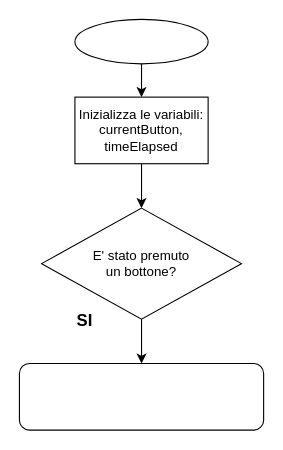
Some shapes in this 283 by 450 pixel diagram are drawn without their labels. The centre of each missing label's shape, as x and y in pixels:
"currentButton=buttonPressed" goes at [141,396].
"Start" goes at [141,41].
